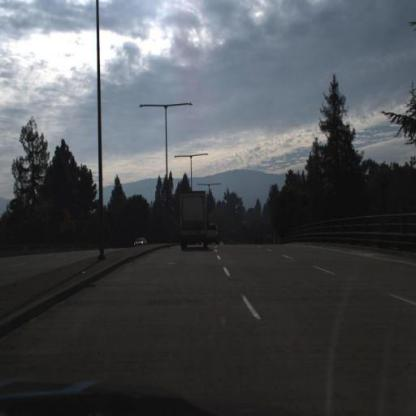car: (208, 224, 221, 244), (132, 236, 148, 248)
truck: (180, 190, 209, 252)
